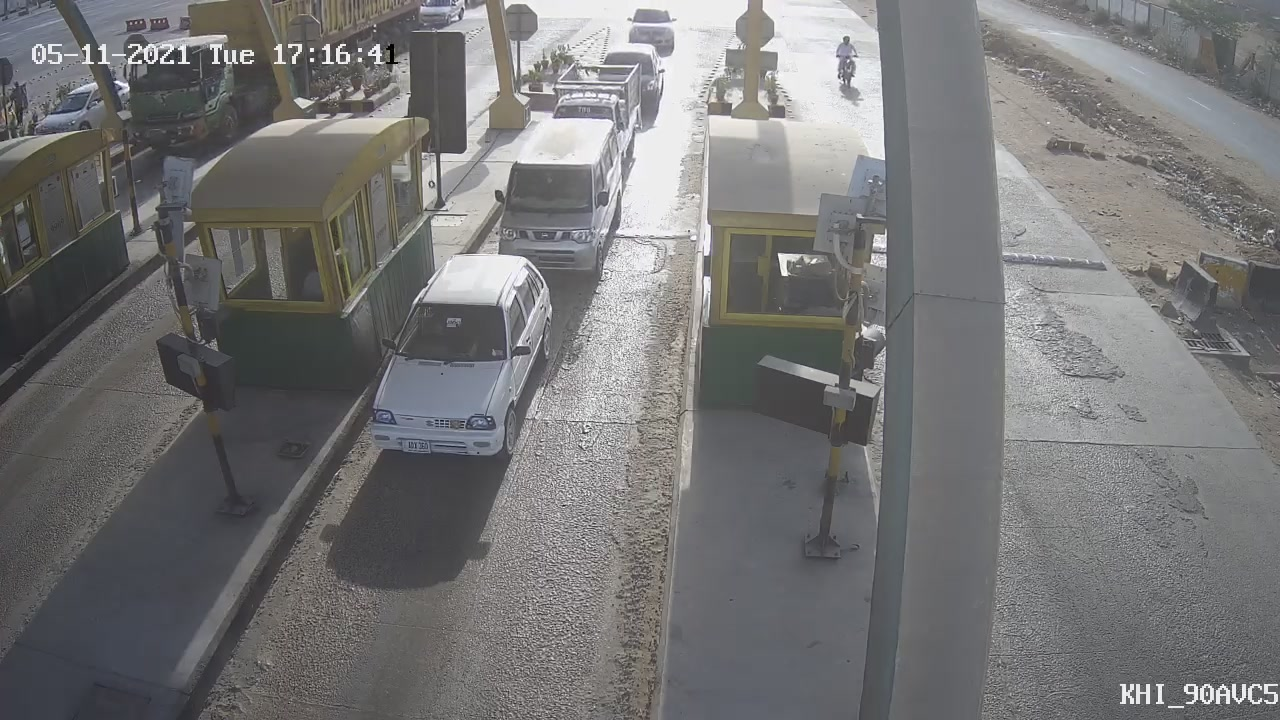F1: (344, 230, 569, 494), (470, 104, 643, 301)
